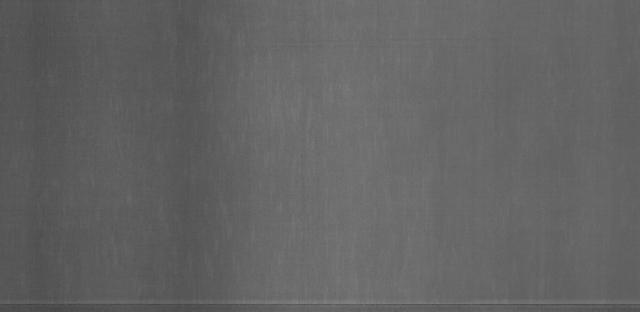welding_line: (0, 295, 640, 310)
